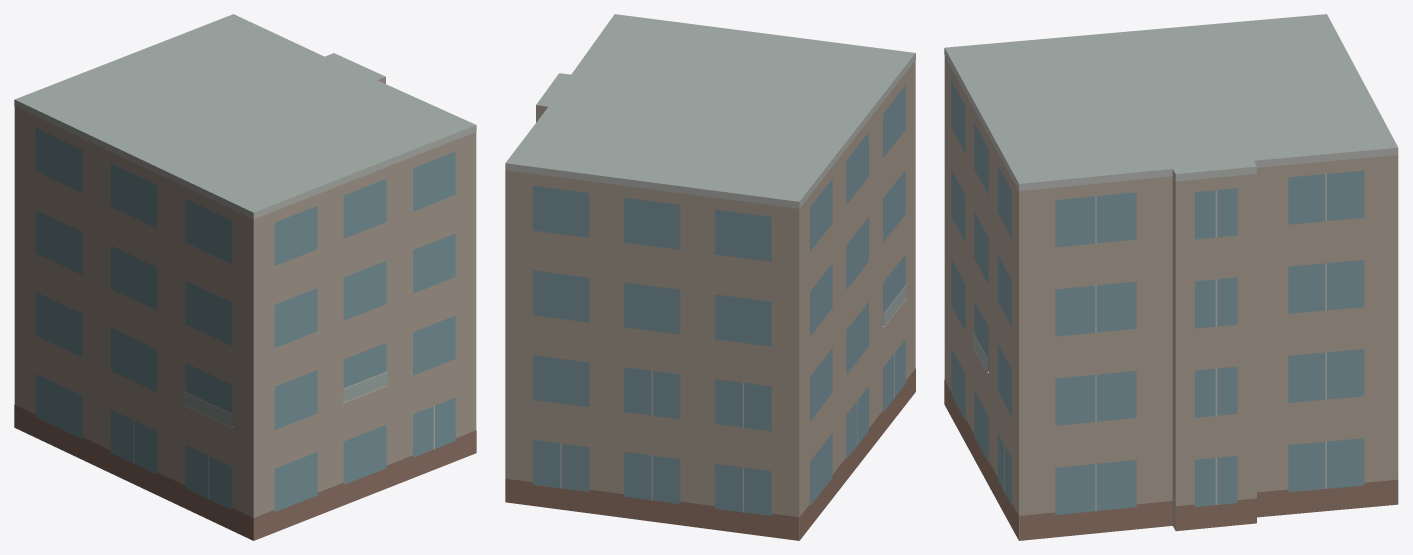
The model's file is survey-upis-32735674.glb.
3 renders of one model, left to right at view 1: azimuth 30°, elevation 25°; view 2: azimuth 150°, elevation 25°; view 3: azimuth 270°, elevation 25°, orthographic. The views are drawn at different scales.
Parts seen in each view (by area): view 1: survey-upis-32735674.tmp; view 2: survey-upis-32735674.tmp; view 3: survey-upis-32735674.tmp.
Part boxes in pixels (x1,y1,x2,y2): survey-upis-32735674.tmp: (14,14,476,540); survey-upis-32735674.tmp: (505,14,915,540); survey-upis-32735674.tmp: (944,14,1398,540).
Bounding box in the file's own units: 12.17 × 11.9 × 13.73.
